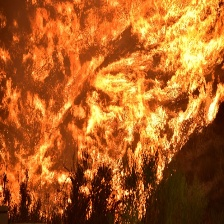fire: (2, 3, 221, 214)
